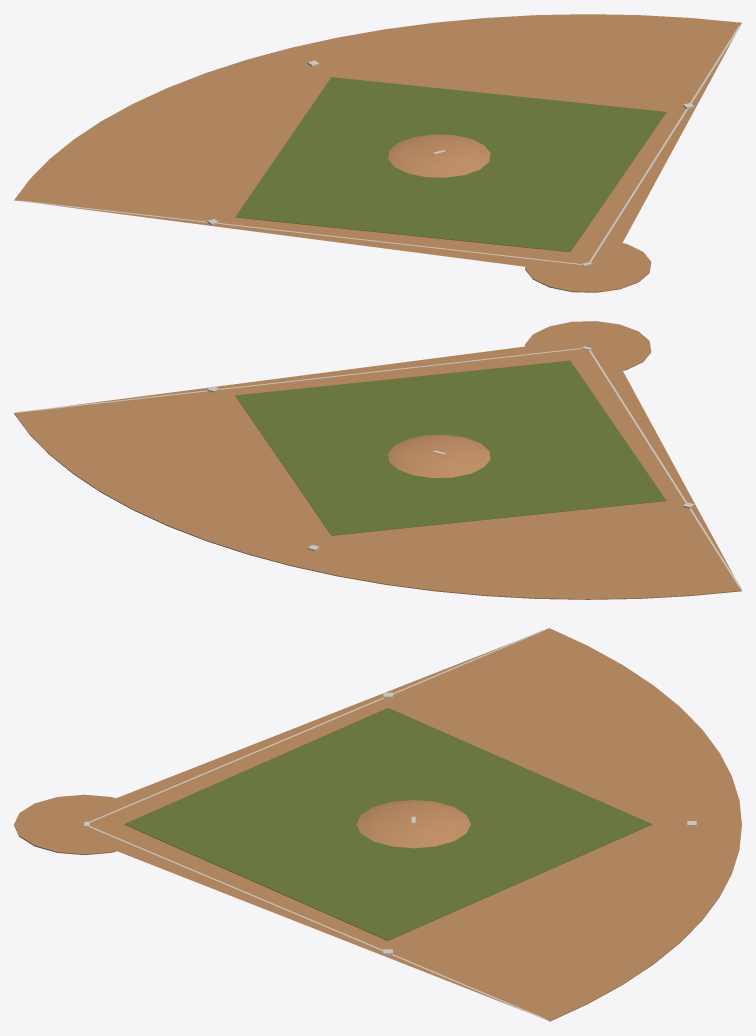
Rendered from ballfield_diamond.glb.
3 renders of one model, top to bottom at view 1: azimuth 30°, elevation 25°; view 2: azimuth 150°, elevation 25°; view 3: azimuth 270°, elevation 25°, orthographic. The views are drawn at different scales.
Visible parts, largest first — view 1: ballfield_diamond; view 2: ballfield_diamond; view 3: ballfield_diamond.
Part boxes in pixels (x1,y1,x2,y2): ballfield_diamond: [14, 14, 741, 292]; ballfield_diamond: [14, 321, 741, 599]; ballfield_diamond: [14, 628, 741, 1021].
Bounding box in the file's own units: 39.6 × 0.27 × 31.
1 material, 1 textured.
